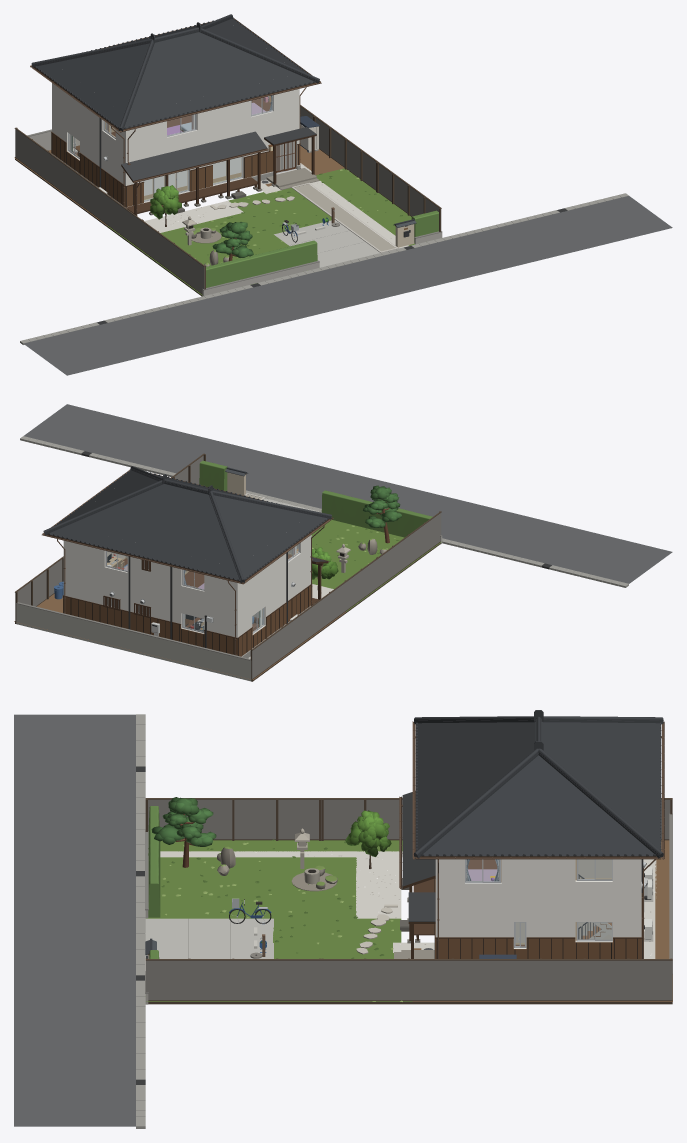
File: Casa.glb
3 renders of one model, top to bottom at view 1: azimuth 30°, elevation 25°; view 2: azimuth 150°, elevation 25°; view 3: azimuth 270°, elevation 25°, orthographic. The views are drawn at different scales.
Visible parts, largest first — view 1: hestate_hyroad_56_hy_asph, hroof_hx_ikawara_k, ground_hy_boardg, ground_hy_moss, wall_extS_hx_shikkui (×2), wall_extW_hx_shikkui (×2), hcanopy_hx_galva_r, hestate_gdhedge_0_gd_wallg, hestate_hyroad_56_hy_gcover2, ground_hy_conc, ground_hy_wgravel, ground_hy_post (+14 smaller); view 2: hestate_hyroad_56_hy_asph, hroof_hx_ikawara_k, wall_extN_hx_shikkui (×2), ground_hy_boardg, ground_hy_block, wall_extW_hx_shikkui (×2), ground_hy_moss, hfacade_hx_clad_32_hx_iitabari, hfacade_hx_ridge_36_hx_kawara_k, hestate_hyroad_56_hy_gcover2, hestate_gdhedge_0_gd_wallg, ground_hy_post (+8 smaller); view 3: hestate_hyroad_56_hy_asph, hroof_hx_ikawara_k, ground_hy_boardg, ground_hy_moss, wall_extE_hx_shikkui (×2), ground_hy_wgravel, ground_hy_post, ground_hy_conc, hfacade_hx_ridge_36_hx_kawara_k, hfacade_hx_clad_35_hx_iitabari, hestate_hyroad_56_hy_gcover2, hcanopy_hx_galva_r (+7 smaller).
Part boxes in pixels (left/top/right/bottom): hestate_hyroad_56_hy_asph: left=23, top=196, right=672, bottom=375; hroof_hx_ikawara_k: left=36, top=18, right=315, bottom=129; ground_hy_boardg: left=15, top=106, right=441, bottom=293; ground_hy_moss: left=107, top=168, right=415, bottom=295; wall_extS_hx_shikkui (×2): left=128, top=89, right=296, bottom=206; wall_extW_hx_shikkui (×2): left=53, top=84, right=124, bottom=205; hcanopy_hx_galva_r: left=121, top=127, right=316, bottom=180; hestate_gdhedge_0_gd_wallg: left=206, top=240, right=317, bottom=287; hestate_hyroad_56_hy_gcover2: left=20, top=193, right=628, bottom=344; ground_hy_conc: left=274, top=220, right=379, bottom=267; ground_hy_wgravel: left=144, top=163, right=408, bottom=248; ground_hy_post: left=14, top=105, right=441, bottom=296; hestate_hyroad_56_hy_asph: left=24, top=404, right=672, bottom=583; hroof_hx_ikawara_k: left=47, top=470, right=327, bottom=580; wall_extN_hx_shikkui (×2): left=66, top=541, right=234, bottom=636; ground_hy_boardg: left=15, top=455, right=441, bottom=678; ground_hy_block: left=16, top=603, right=251, bottom=681; wall_extW_hx_shikkui (×2): left=239, top=536, right=309, bottom=656; ground_hy_moss: left=311, top=520, right=441, bottom=611; hfacade_hx_clad_32_hx_iitabari: left=63, top=596, right=237, bottom=655; hfacade_hx_ridge_36_hx_kawara_k: left=43, top=466, right=331, bottom=582; hestate_hyroad_56_hy_gcover2: left=20, top=436, right=628, bottom=587; hestate_gdhedge_0_gd_wallg: left=321, top=490, right=432, bottom=537; ground_hy_post: left=15, top=453, right=441, bottom=681; hestate_hyroad_56_hy_asph: left=14, top=714, right=135, bottom=1126; hroof_hx_ikawara_k: left=416, top=722, right=661, bottom=856; ground_hy_boardg: left=145, top=799, right=672, bottom=1000; ground_hy_moss: left=145, top=840, right=412, bottom=1001; wall_extE_hx_shikkui (×2): left=440, top=859, right=637, bottom=948; ground_hy_wgravel: left=160, top=851, right=656, bottom=958; ground_hy_post: left=145, top=798, right=672, bottom=1004; ground_hy_conc: left=145, top=918, right=273, bottom=958; hfacade_hx_ridge_36_hx_kawara_k: left=414, top=710, right=663, bottom=858; hfacade_hx_clad_35_hx_iitabari: left=435, top=938, right=641, bottom=958; hestate_hyroad_56_hy_gcover2: left=136, top=714, right=145, bottom=1128; hcanopy_hx_galva_r: left=402, top=791, right=435, bottom=921.
Size of the model in its own units: 39.6 by 8.84 by 26.76.
